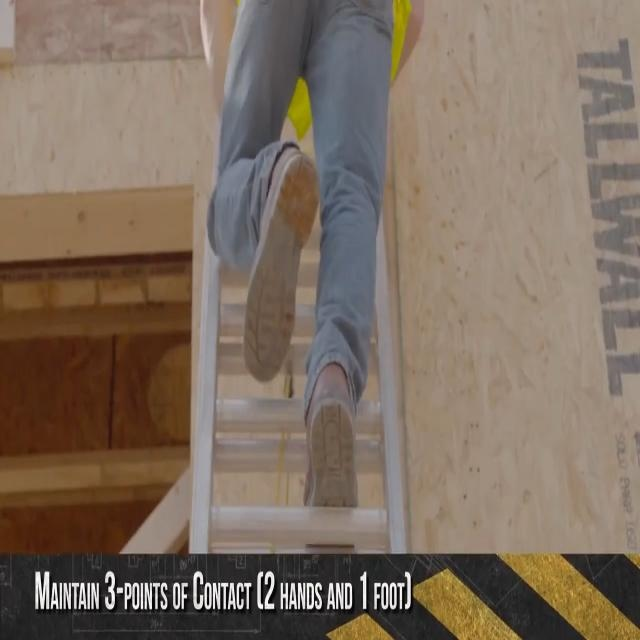Person: (202, 0, 427, 549)
Safety Vest: (289, 0, 409, 134)
